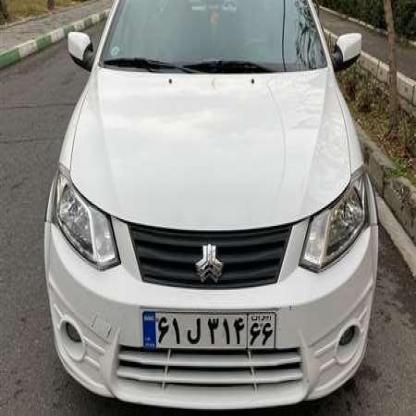Car: (42, 0, 375, 412)
